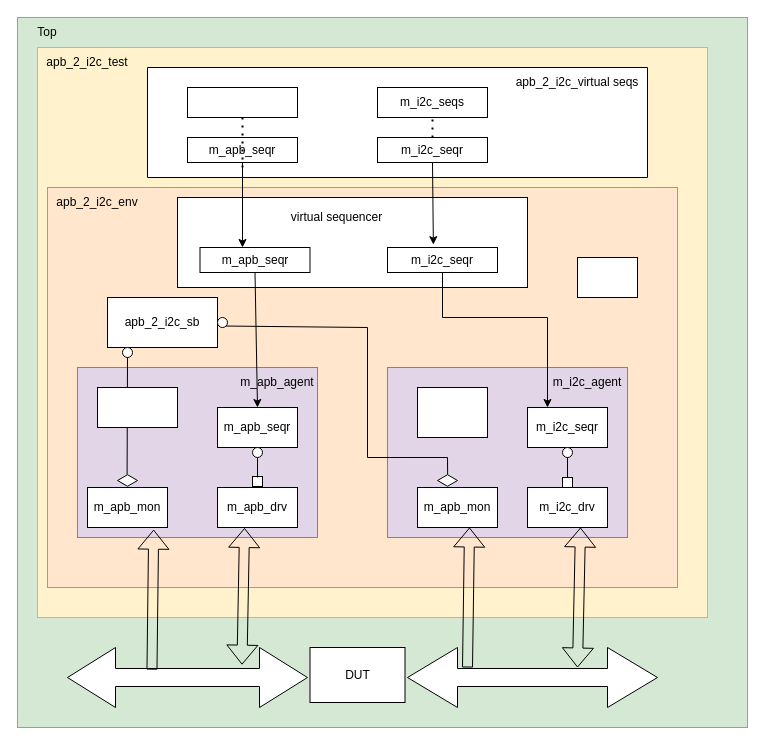
The diagram is 765 pixels wide and 745 high, and some of its shapes have lost their labels. The centre of each missing label's shape, as x and y in pixels:
"apn_inf" goes at [187,677].
"env_config" goes at [607,277].
"i2c_inf" goes at [532,677].
"m_apb_config" goes at [137,407].
"m_apb_seqs" goes at [242,102].
"m_i2c_config" goes at [452,412].
